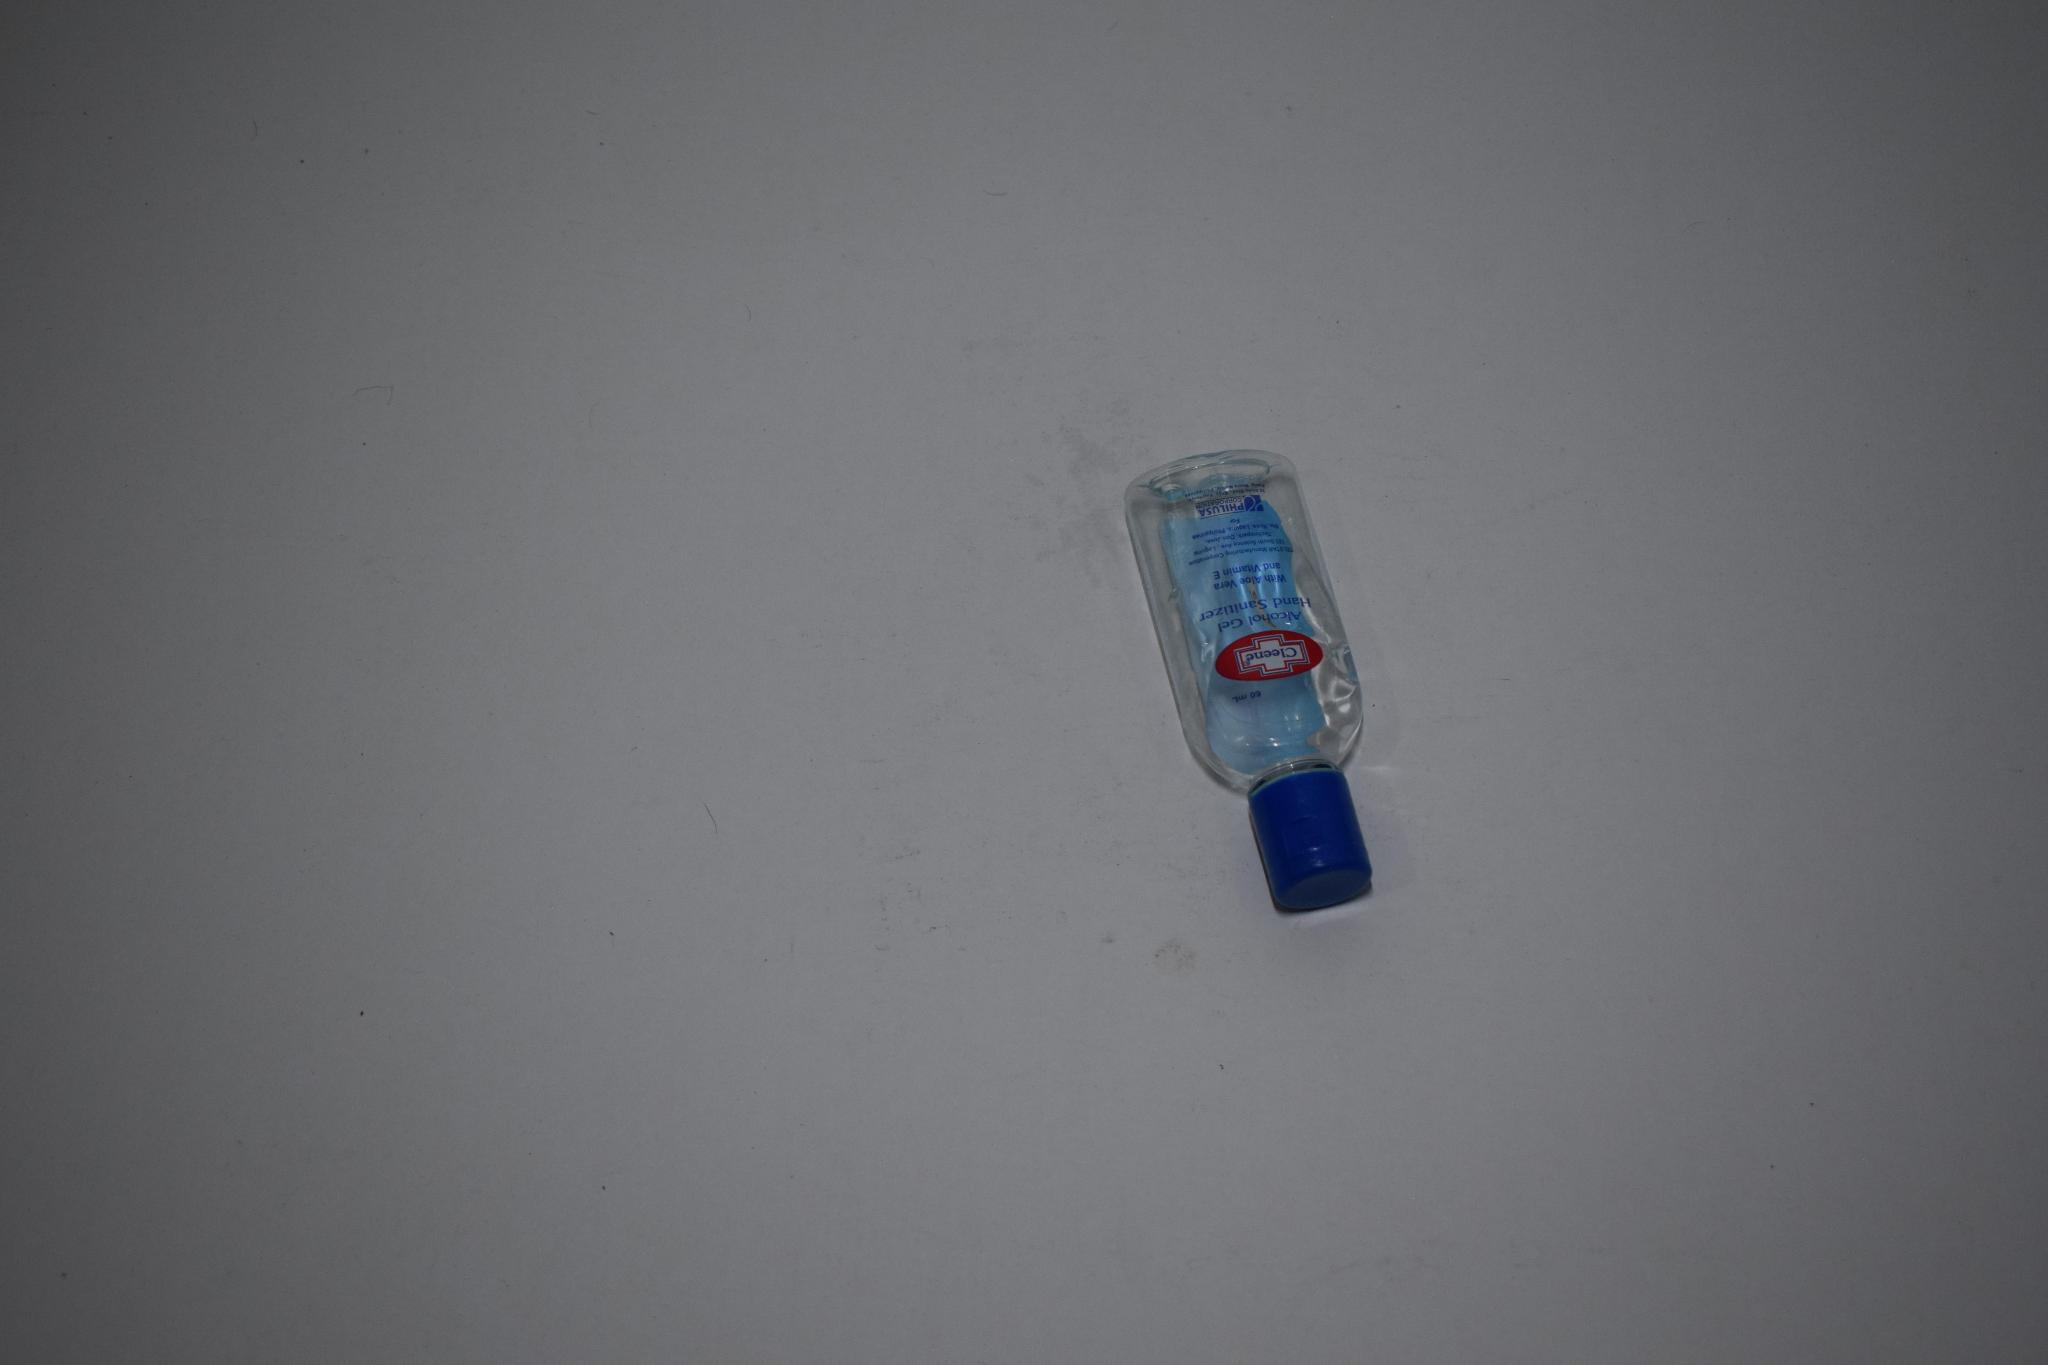bottle: (1112, 437, 1373, 943)
